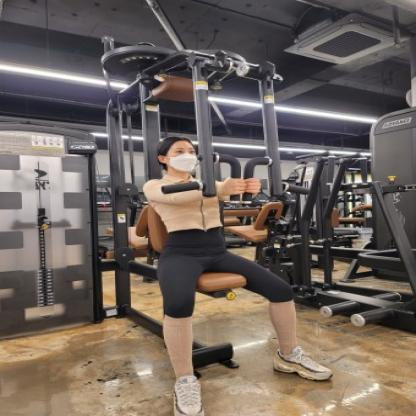chest fly machine: (52, 0, 355, 416)
